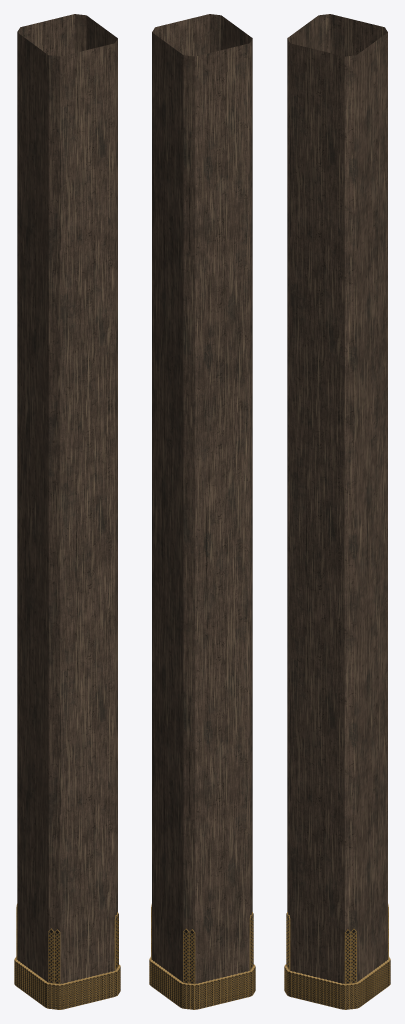
Rendered from SM_Wall_Pannels_07.fbx.
3 renders of one model, left to right at view 1: azimuth 30°, elevation 25°; view 2: azimuth 210°, elevation 25°; view 3: azimuth 330°, elevation 25°, orthographic.
Visible parts, largest first — view 1: SM_Wall_Pannels_07_LOD0; view 2: SM_Wall_Pannels_07_LOD0; view 3: SM_Wall_Pannels_07_LOD0.
Part boxes in pixels (x1,y1,x2,y2): SM_Wall_Pannels_07_LOD0: (14,14,120,1009); SM_Wall_Pannels_07_LOD0: (149,14,255,1009); SM_Wall_Pannels_07_LOD0: (284,14,390,1009).
Size of the model in its own units: 82.66 by 82.64 by 1007.
